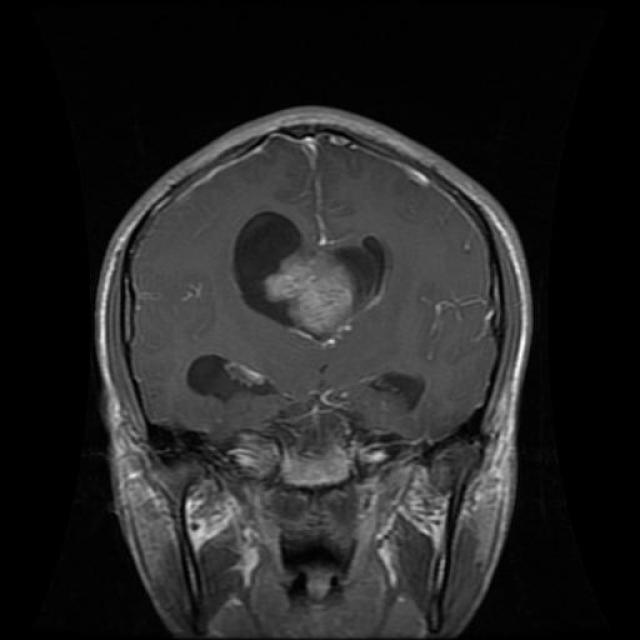glioma: (225, 200, 400, 341)
